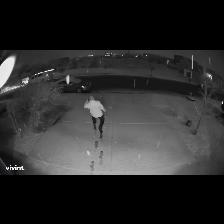person: (84, 96, 106, 138)
